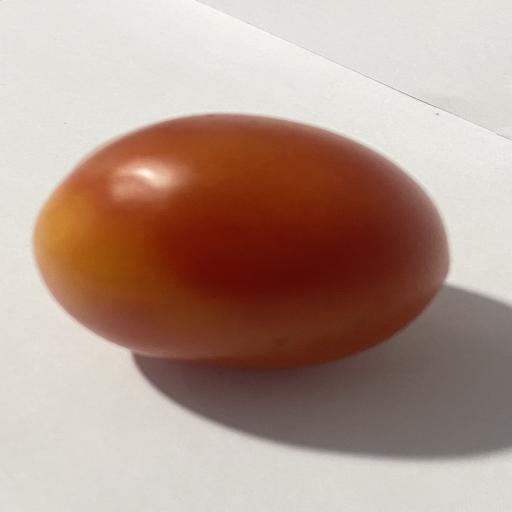ripe: (34, 114, 449, 368)
